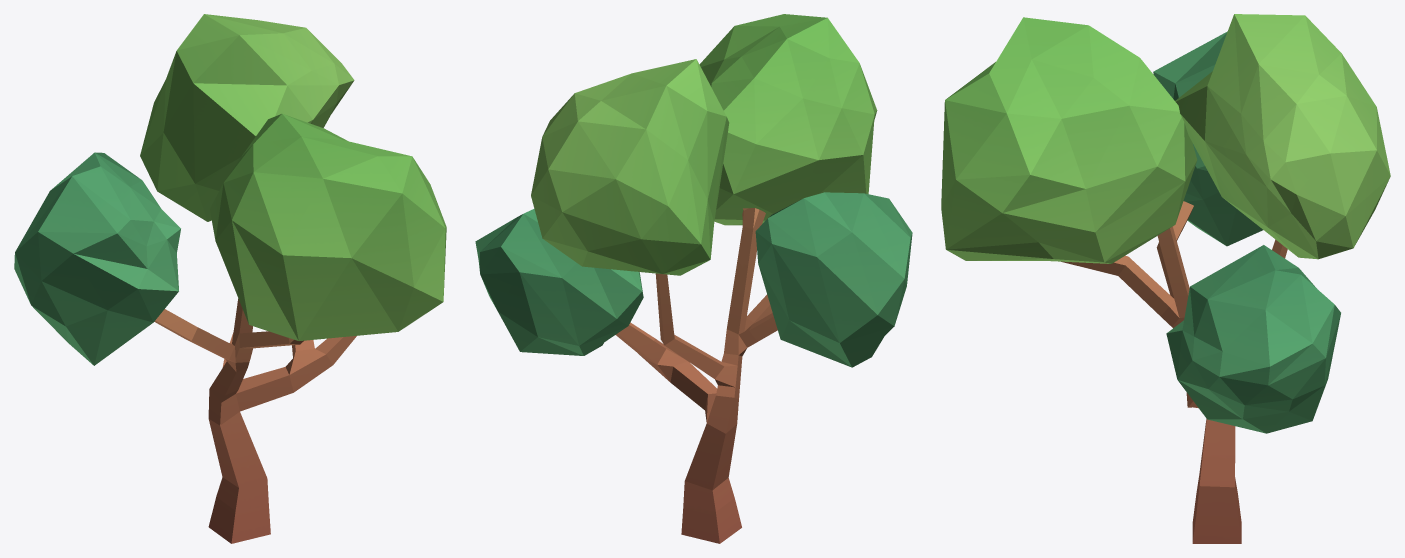
The model's file is PR_Tree_01.fbx.
The picture shows the model from 3 angles, left to right: view 1: azimuth 30°, elevation 25°; view 2: azimuth 150°, elevation 25°; view 3: azimuth 270°, elevation 25°; orthographic projection. The views are drawn at different scales.
Visible parts, largest first — view 1: PR_Tree_01; view 2: PR_Tree_01; view 3: PR_Tree_01.
Boxes of the visible parts, <box> form: PR_Tree_01: <box>14,14,446,543</box>; PR_Tree_01: <box>475,14,912,543</box>; PR_Tree_01: <box>941,14,1390,543</box>.
Size of the model in its own units: 524 by 570 by 443.
1 material, 1 textured.
